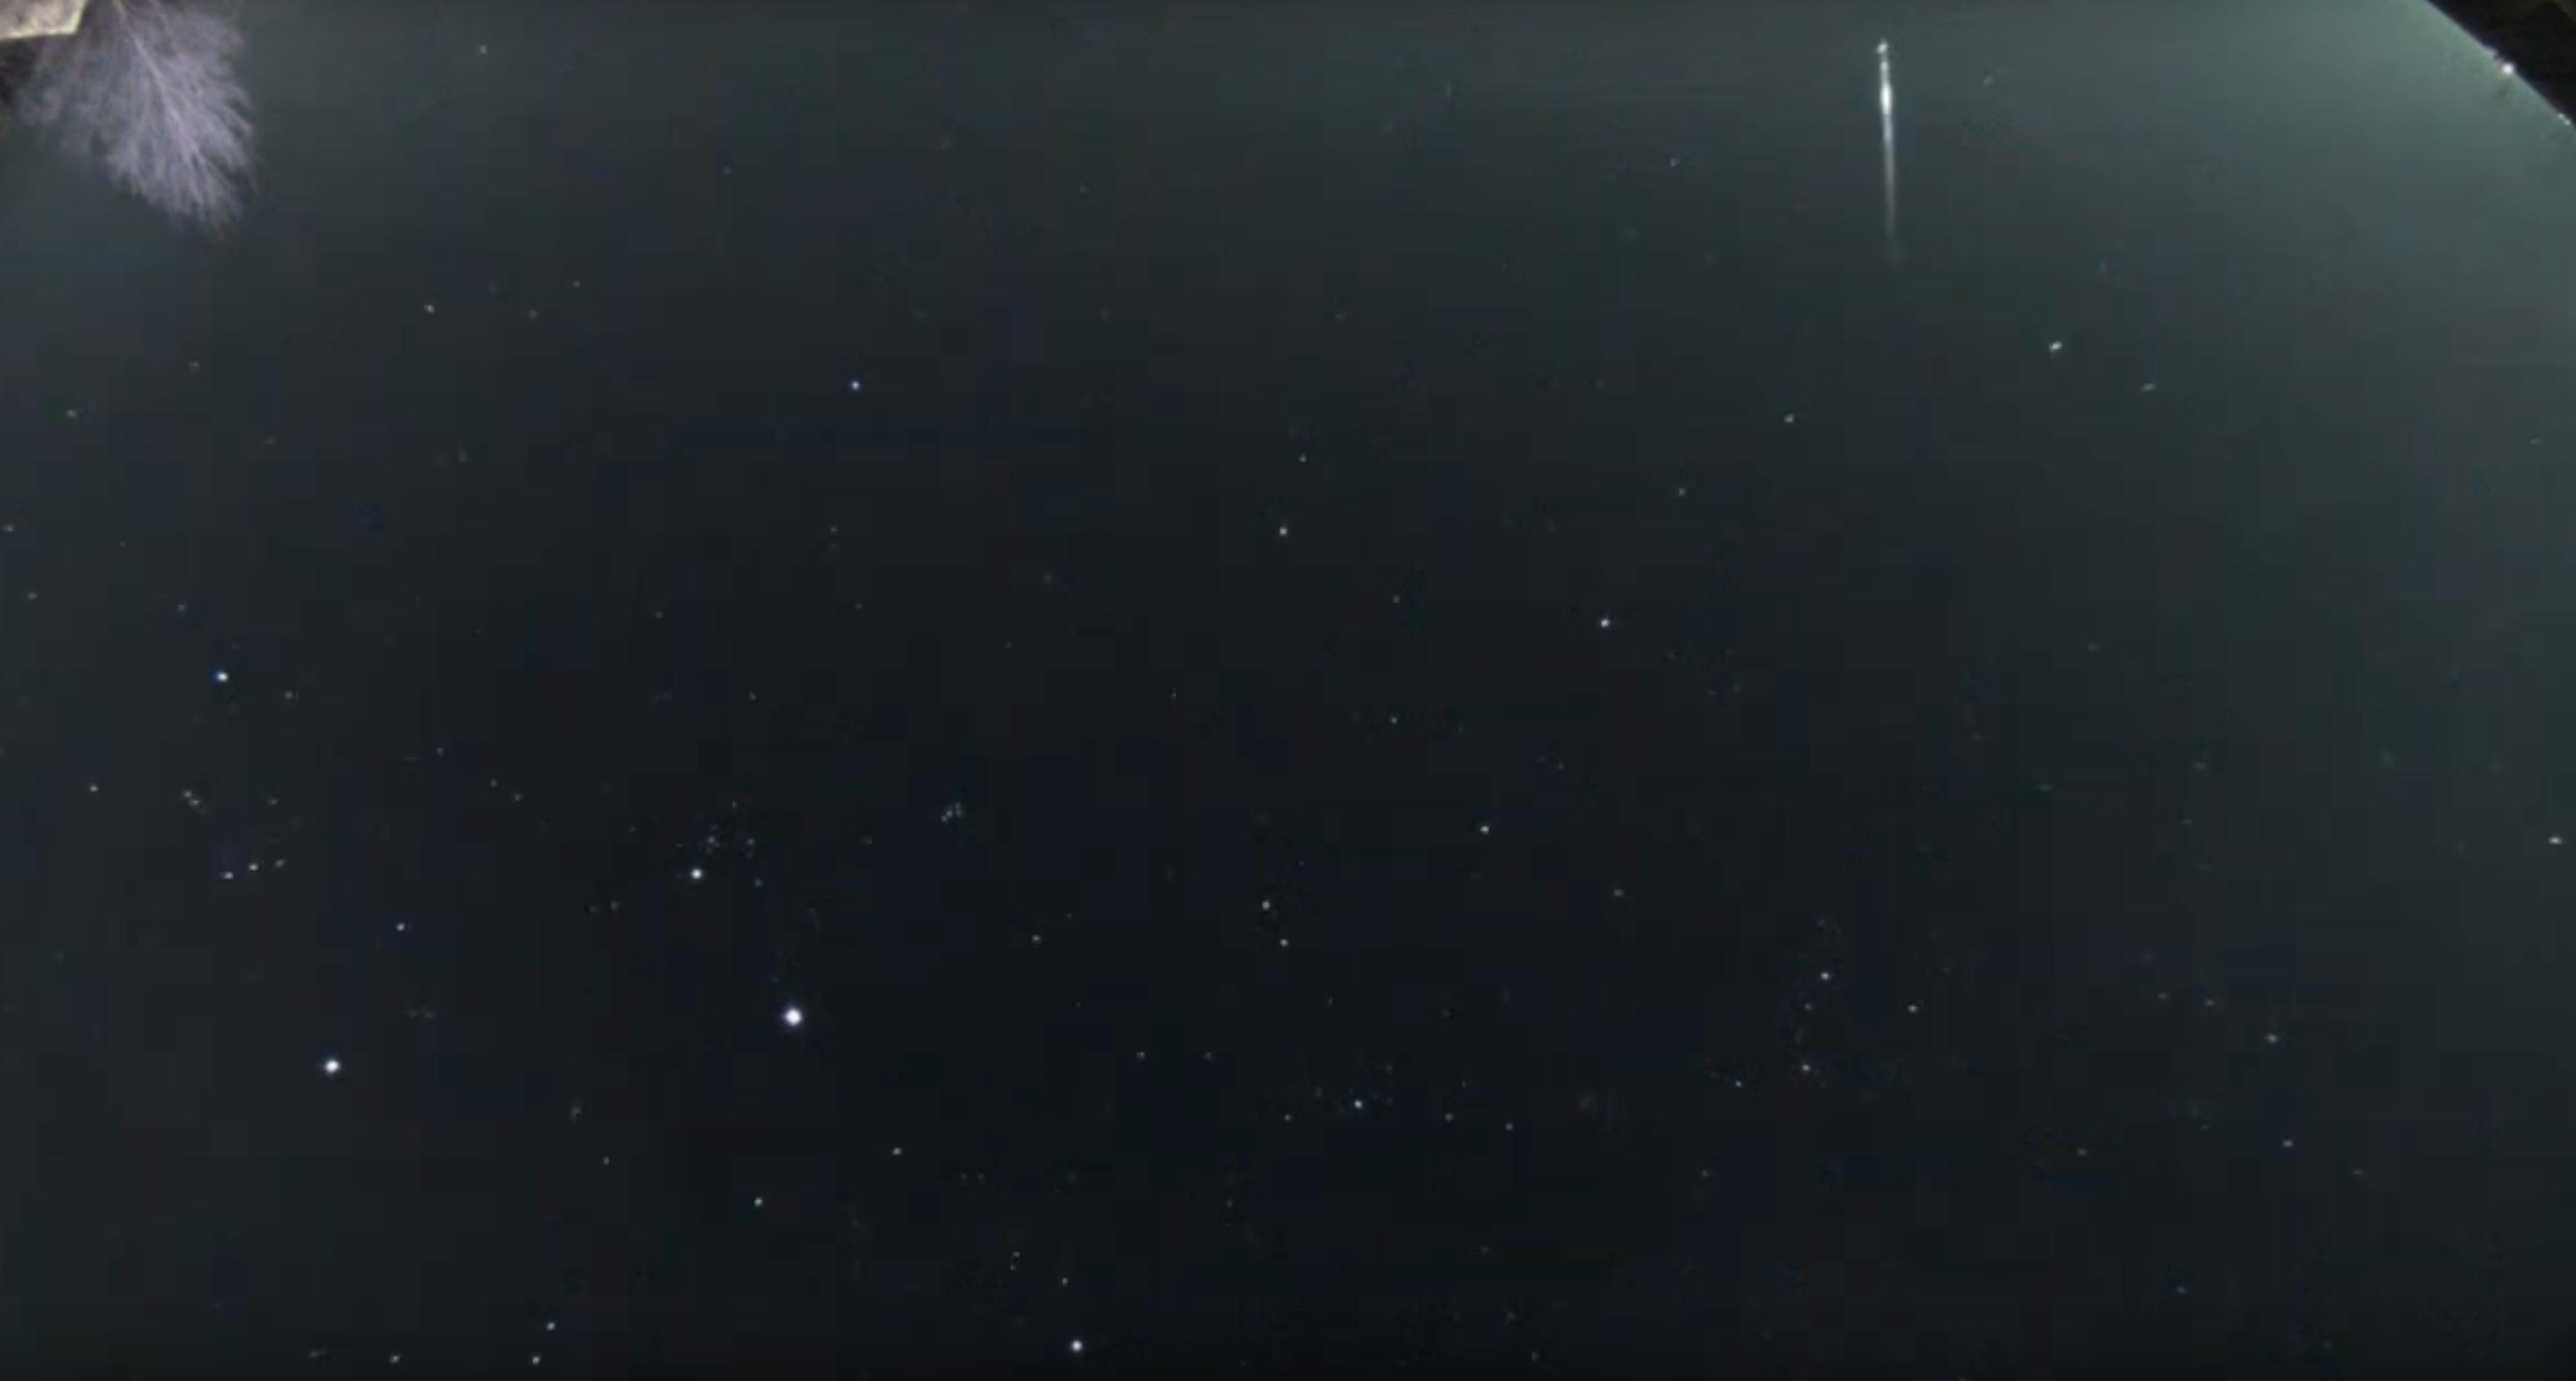meteorite: (1820, 26, 1959, 237)
